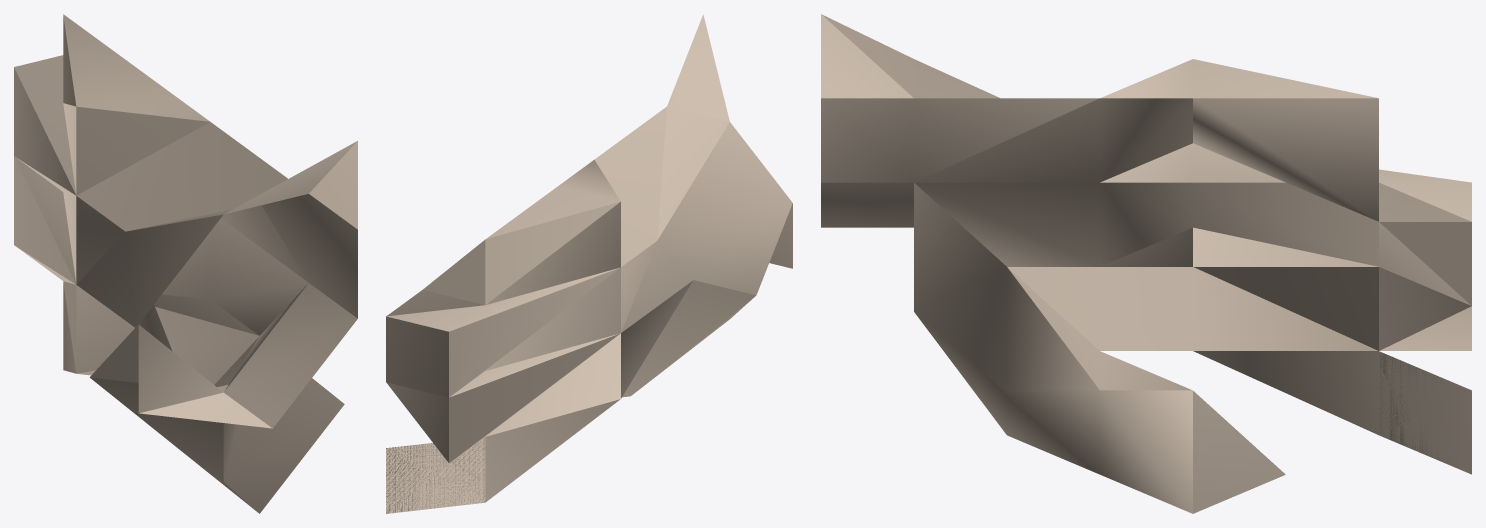
Rendered from m_jet_5993e8f8.glb.
3 views of the same model, side by side, from view 1: azimuth 30°, elevation 25°; view 2: azimuth 150°, elevation 25°; view 3: azimuth 270°, elevation 25° (orthographic). The views are drawn at different scales.
Visible parts, largest first — view 1: mesh; view 2: mesh; view 3: mesh.
Boxes of the visible parts, bbox=[...] form: mesh: bbox=[14, 14, 357, 513]; mesh: bbox=[386, 14, 792, 513]; mesh: bbox=[821, 14, 1471, 513].
Size of the model in its own units: 4 by 5 by 7.
